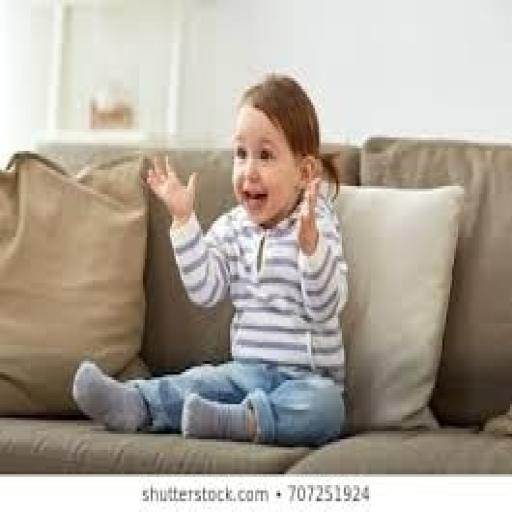clapping: (70, 70, 350, 447)
